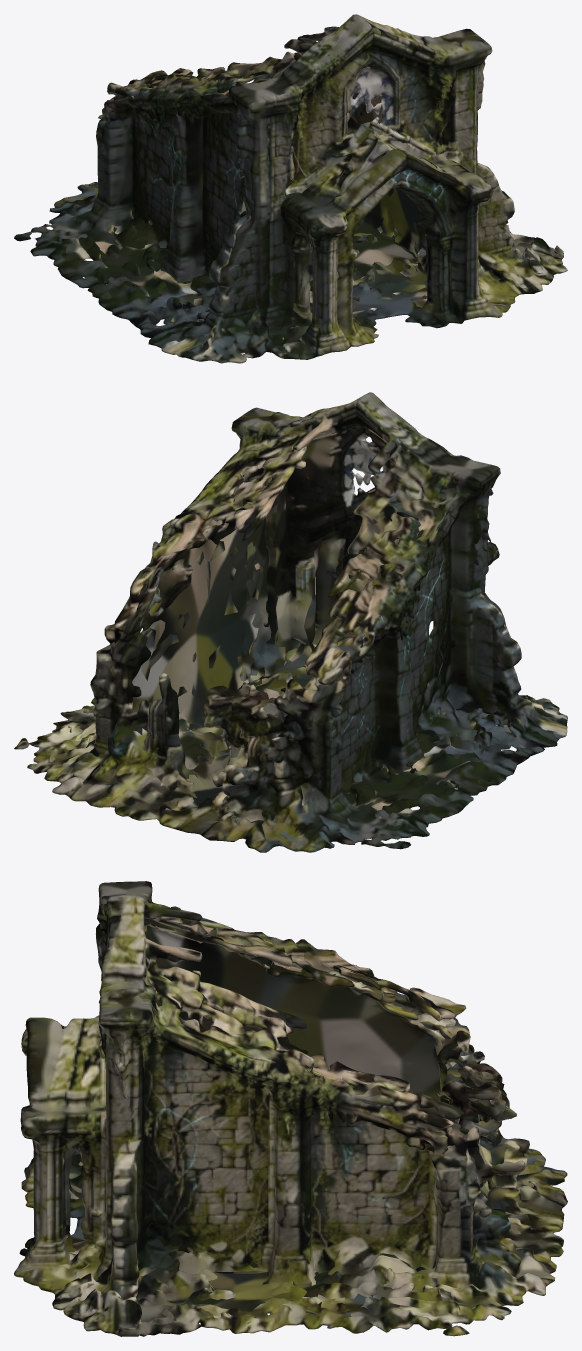
File: struct_ruined_chapel.glb
3 views of the same model, one above another, from view 1: azimuth 30°, elevation 25°; view 2: azimuth 150°, elevation 25°; view 3: azimuth 270°, elevation 25° (orthographic). The views are drawn at different scales.
Visible parts, largest first — view 1: geometry_0; view 2: geometry_0; view 3: geometry_0.
Boxes of the visible parts, <box> form: geometry_0: <box>14,14,567,363</box>; geometry_0: <box>14,392,567,852</box>; geometry_0: <box>14,881,567,1336</box>.
Size of the model in its own units: 13.89 by 9.5 by 14.41.
1 material, 1 textured.
